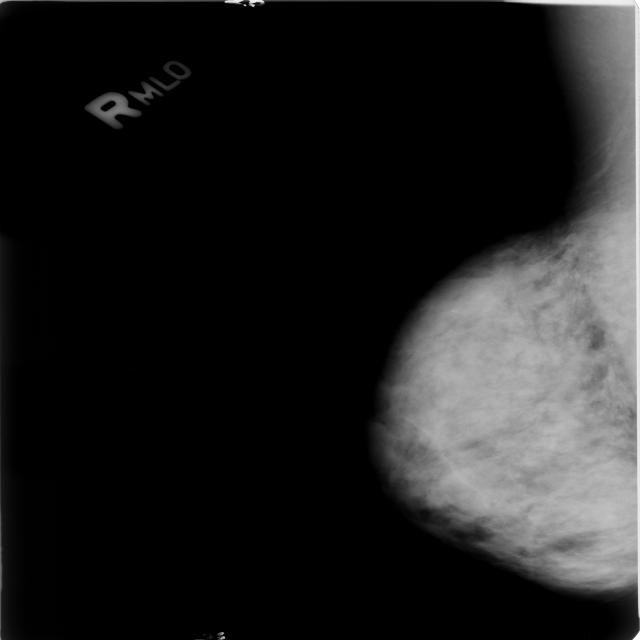normal: (375, 203, 640, 600)
